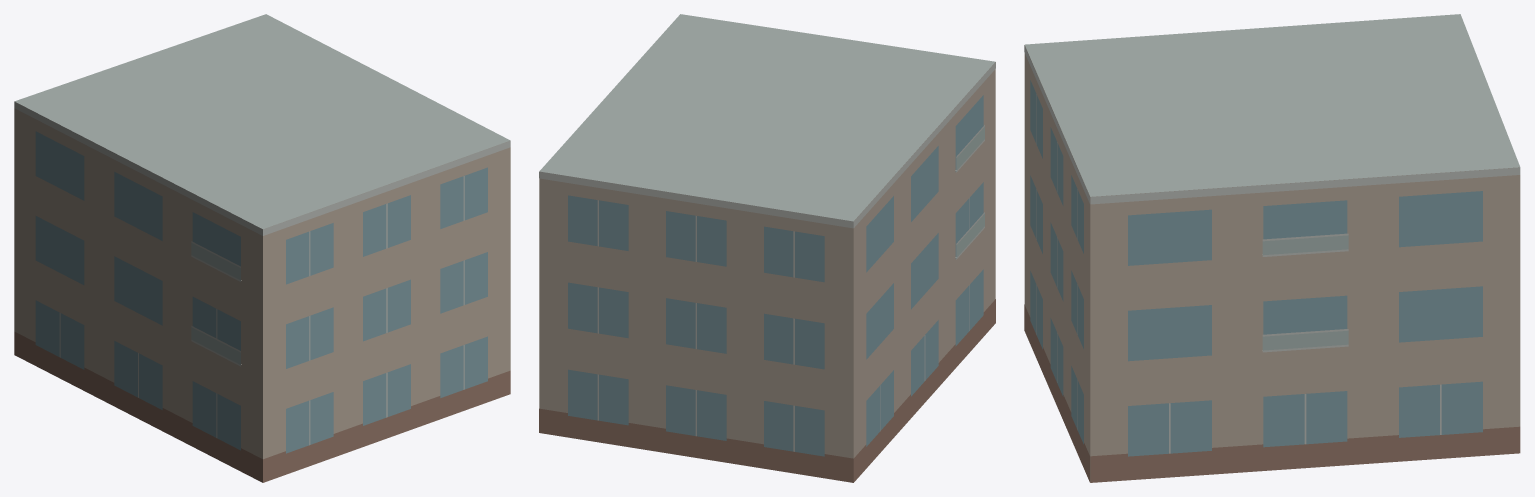
The model's file is survey-upis-32708133.glb.
3 renders of one model, left to right at view 1: azimuth 30°, elevation 25°; view 2: azimuth 150°, elevation 25°; view 3: azimuth 270°, elevation 25°, orthographic. The views are drawn at different scales.
Visible parts, largest first — view 1: survey-upis-32708133.tmp; view 2: survey-upis-32708133.tmp; view 3: survey-upis-32708133.tmp.
Part boxes in pixels (box(x1,y1,x2,y2)): survey-upis-32708133.tmp: box(14, 14, 510, 482); survey-upis-32708133.tmp: box(539, 14, 995, 482); survey-upis-32708133.tmp: box(1024, 14, 1520, 482).
Bounding box in the file's own units: 12.56 × 9.15 × 14.39.
